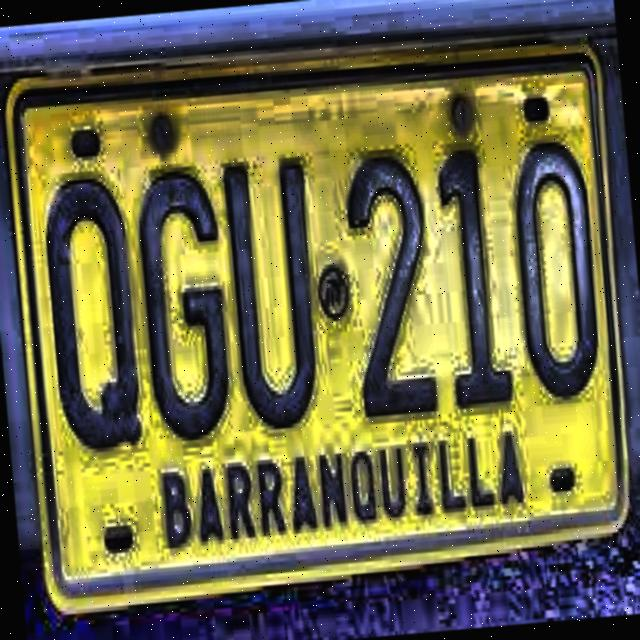0: (501, 128, 610, 406)
1: (427, 134, 519, 413)
2: (337, 142, 450, 424)
G: (125, 154, 244, 449)
Q: (32, 160, 154, 465)
U: (214, 147, 330, 439)
